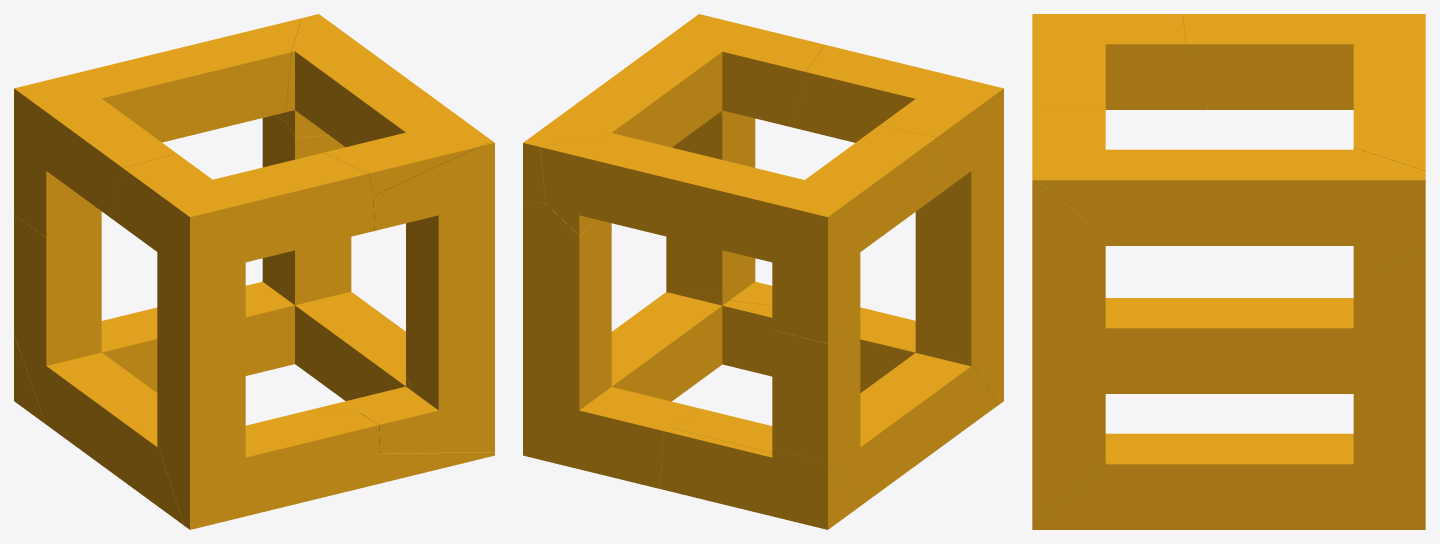
Rendered from Nonfilled_Box_DEST.fbx.
3 views of the same model, side by side, from view 1: azimuth 30°, elevation 25°; view 2: azimuth 150°, elevation 25°; view 3: azimuth 270°, elevation 25° (orthographic). The views are drawn at different scales.
Visible parts, largest first — view 1: polySurface112_cell, polySurface112_cell.006, polySurface112_cell.005, polySurface112_cell.001, polySurface112_cell.003, polySurface112_cell.002, polySurface112_cell.004; view 2: polySurface112_cell.006, polySurface112_cell.003, polySurface112_cell, polySurface112_cell.001, polySurface112_cell.002, polySurface112_cell.004, polySurface112_cell.005; view 3: polySurface112_cell.003, polySurface112_cell.002, polySurface112_cell.006, polySurface112_cell.001, polySurface112_cell.005, polySurface112_cell.
Part boxes in pixels (box(x1,y1,x2,y2)): polySurface112_cell: box(113, 153, 379, 529); polySurface112_cell.006: box(14, 18, 301, 236); polySurface112_cell.005: box(360, 141, 494, 453); polySurface112_cell.001: box(14, 215, 246, 525); polySurface112_cell.003: box(245, 115, 494, 491); polySurface112_cell.002: box(286, 14, 492, 195); polySurface112_cell.004: box(14, 307, 157, 423); polySurface112_cell.006: box(540, 125, 936, 343); polySurface112_cell.003: box(523, 201, 772, 488); polySurface112_cell: box(794, 45, 1003, 404); polySurface112_cell.001: box(672, 319, 997, 506); polySurface112_cell.002: box(523, 15, 824, 203); polySurface112_cell.004: box(660, 428, 859, 529); polySurface112_cell.005: box(666, 14, 772, 305); polySurface112_cell.003: box(1032, 246, 1425, 529); polySurface112_cell.002: box(1032, 104, 1425, 286); polySurface112_cell.006: box(1182, 14, 1425, 170); polySurface112_cell.001: box(1105, 298, 1353, 393); polySurface112_cell.005: box(1032, 173, 1115, 525); polySurface112_cell: box(1032, 14, 1207, 111).
Size of the model in its own units: 304 by 298 by 304.
